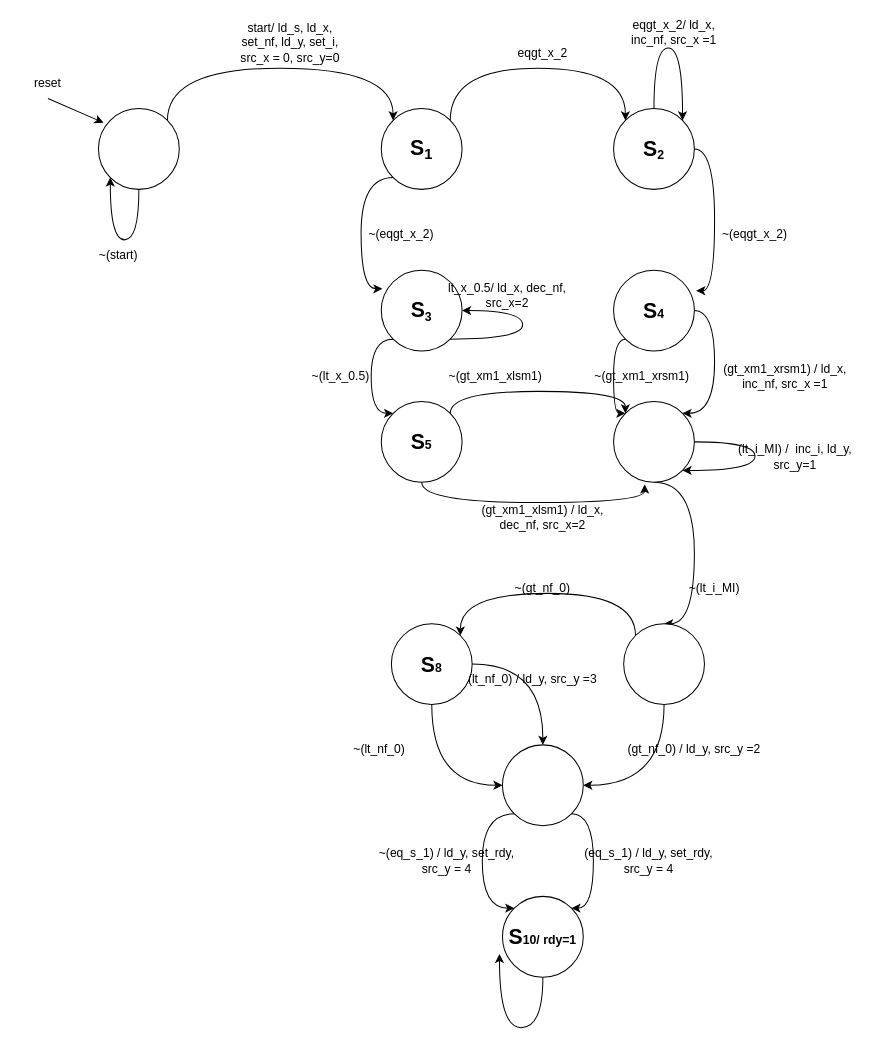
Some shapes in this 893 by 1045 pixel diagram are drawn without their labels. The centre of each missing label's shape, as x and y in pixels:
S 0: the point at 138,148
S 6: the point at 653,441
S 7: the point at 663,663
S 9: the point at 542,785
